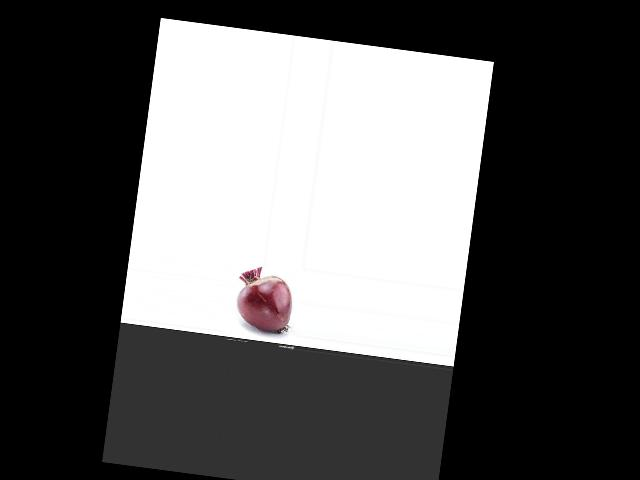beet: (232, 264, 296, 333)
